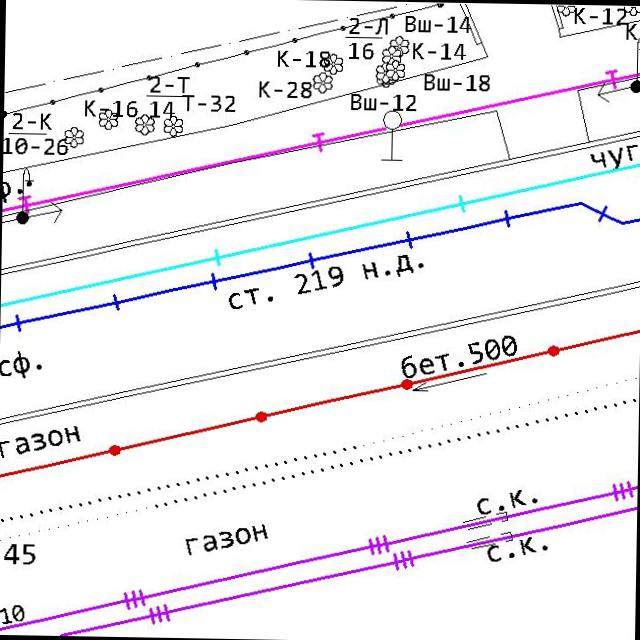bushes: (62, 124, 86, 149), (160, 114, 184, 139), (96, 108, 120, 132), (132, 112, 156, 136), (311, 70, 334, 94), (322, 51, 344, 76), (385, 58, 406, 82), (381, 44, 402, 65), (389, 35, 410, 55), (374, 62, 392, 82)
sing: (378, 108, 406, 162)
